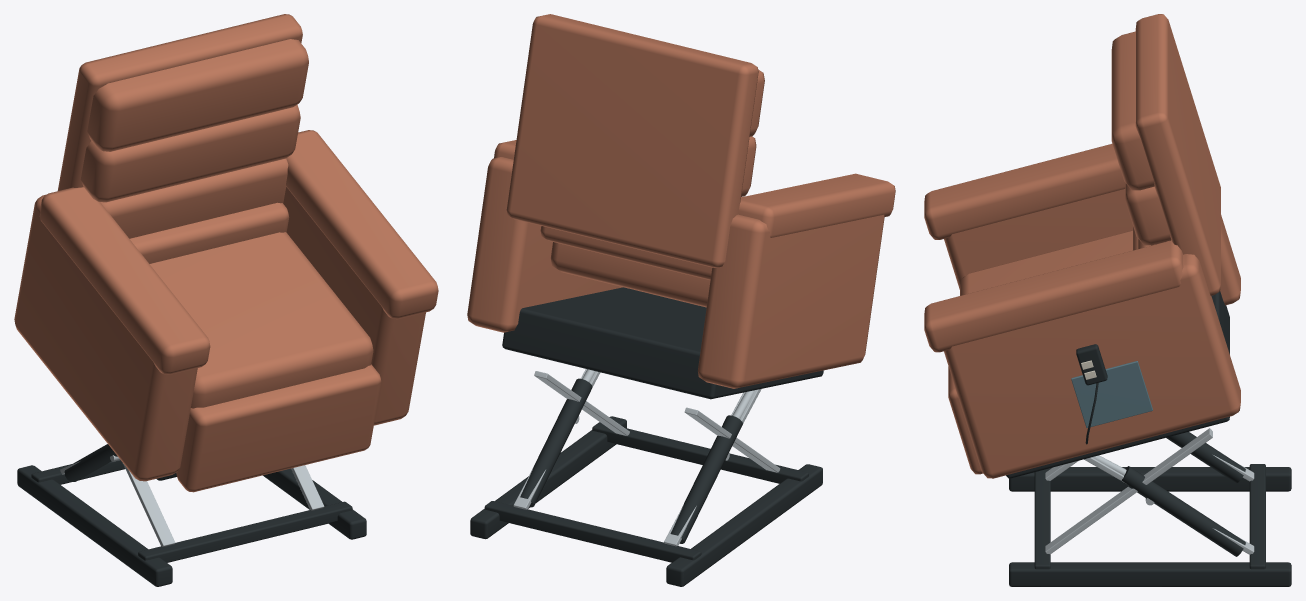
File: lift-recliner-raised.glb
3 renders of one model, left to right at view 1: azimuth 30°, elevation 25°; view 2: azimuth 150°, elevation 25°; view 3: azimuth 270°, elevation 25°, orthographic.
Visible parts, largest first — view 1: catalog_surface_RealismUV, catalog_surface_UVMap; view 2: catalog_surface_RealismUV, catalog_surface_UVMap; view 3: catalog_surface_RealismUV, catalog_surface_UVMap.
Boxes of the visible parts, x1,y1,x2,y2 form: catalog_surface_RealismUV: [14, 14, 438, 546]; catalog_surface_UVMap: [17, 444, 366, 586]; catalog_surface_RealismUV: [467, 14, 895, 546]; catalog_surface_UVMap: [470, 287, 823, 586]; catalog_surface_RealismUV: [924, 14, 1254, 554]; catalog_surface_UVMap: [1006, 291, 1291, 586].
Size of the model in its own units: 0.91 by 1.42 by 1.
